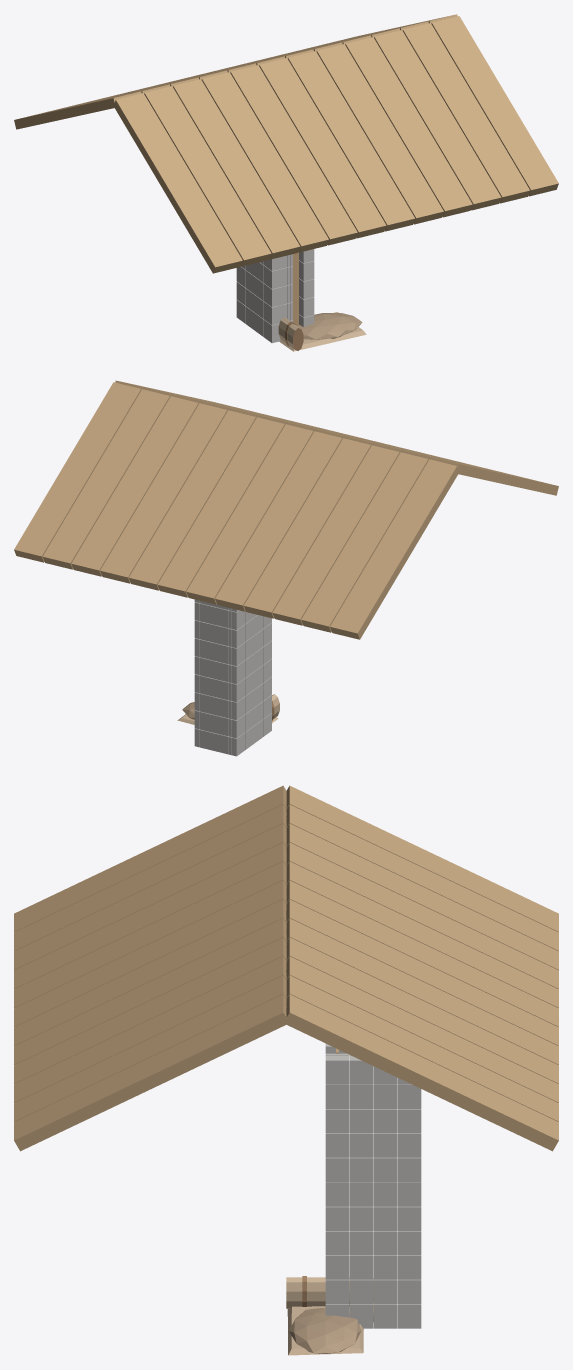
Rendered from building_cut_stone_house_complete.glb.
The picture shows the model from 3 angles, top to bottom: view 1: azimuth 30°, elevation 25°; view 2: azimuth 150°, elevation 25°; view 3: azimuth 270°, elevation 25°; orthographic projection. The views are drawn at different scales.
Visible parts, largest first — view 1: building_cut_stone_house_complete; view 2: building_cut_stone_house_complete; view 3: building_cut_stone_house_complete.
Part boxes in pixels (bbox=[...]): building_cut_stone_house_complete: bbox=[14, 14, 558, 351]; building_cut_stone_house_complete: bbox=[14, 380, 558, 756]; building_cut_stone_house_complete: bbox=[14, 785, 558, 1355].
Size of the model in its own units: 3.99 by 3.33 by 4.05.
